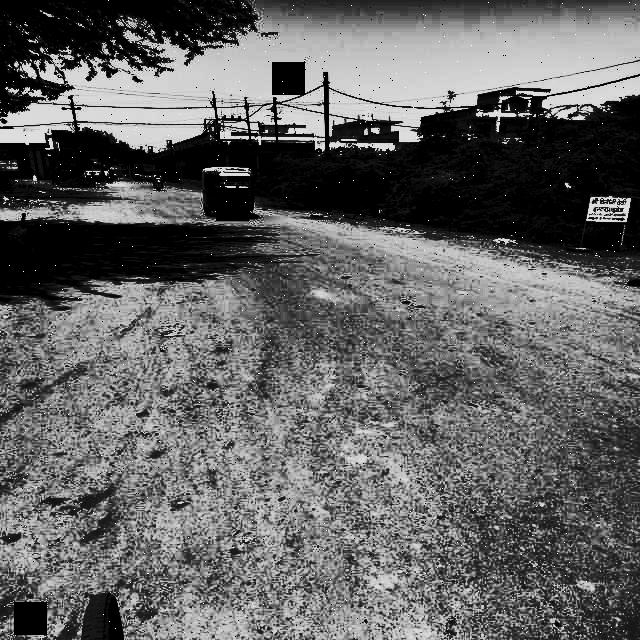Auto-Rickshaw: (198, 164, 256, 224)
